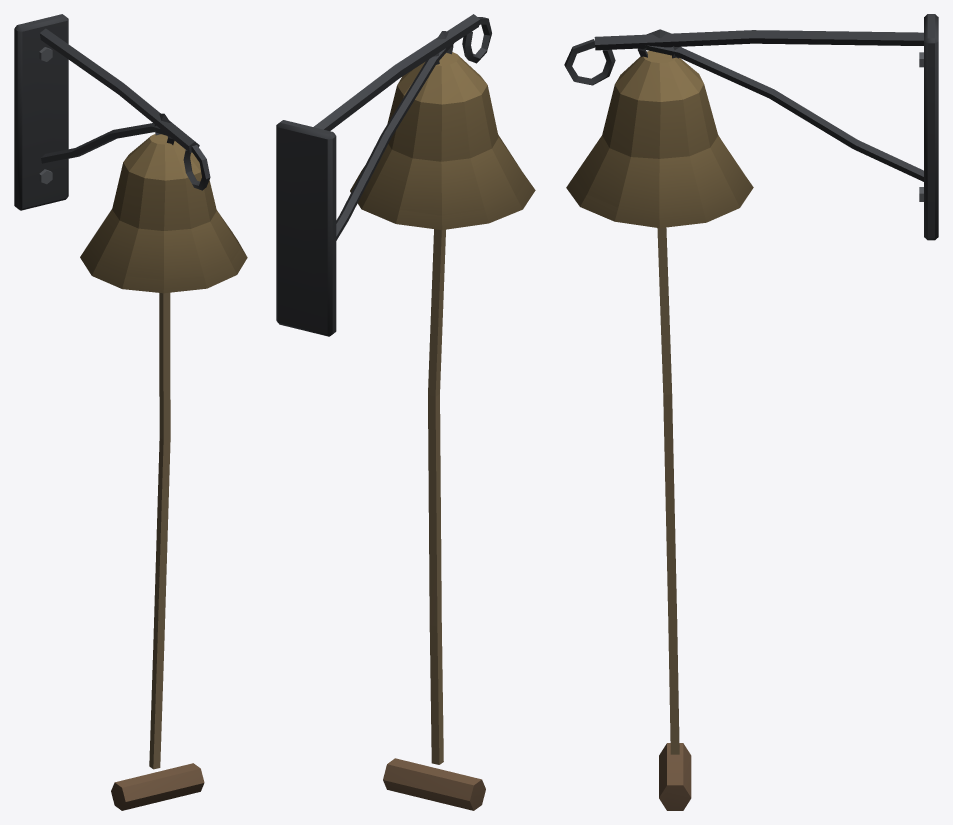
Rendered from ph_prop_gate_bell.glb.
3 renders of one model, left to right at view 1: azimuth 30°, elevation 25°; view 2: azimuth 150°, elevation 25°; view 3: azimuth 270°, elevation 25°, orthographic. The views are drawn at different scales.
Parts seen in each view (by area): view 1: bell, ph_prop_gate_bell; view 2: bell, ph_prop_gate_bell; view 3: bell, ph_prop_gate_bell.
Boxes of the visible parts, x1,y1,x2,y2 form: bell: [80, 113, 247, 810]; ph_prop_gate_bell: [14, 14, 210, 210]; bell: [350, 31, 535, 810]; ph_prop_gate_bell: [276, 14, 491, 336]; bell: [566, 29, 753, 810]; ph_prop_gate_bell: [564, 14, 938, 240].
Size of the model in its own units: 0.2005 by 0.9072 by 0.4033.
